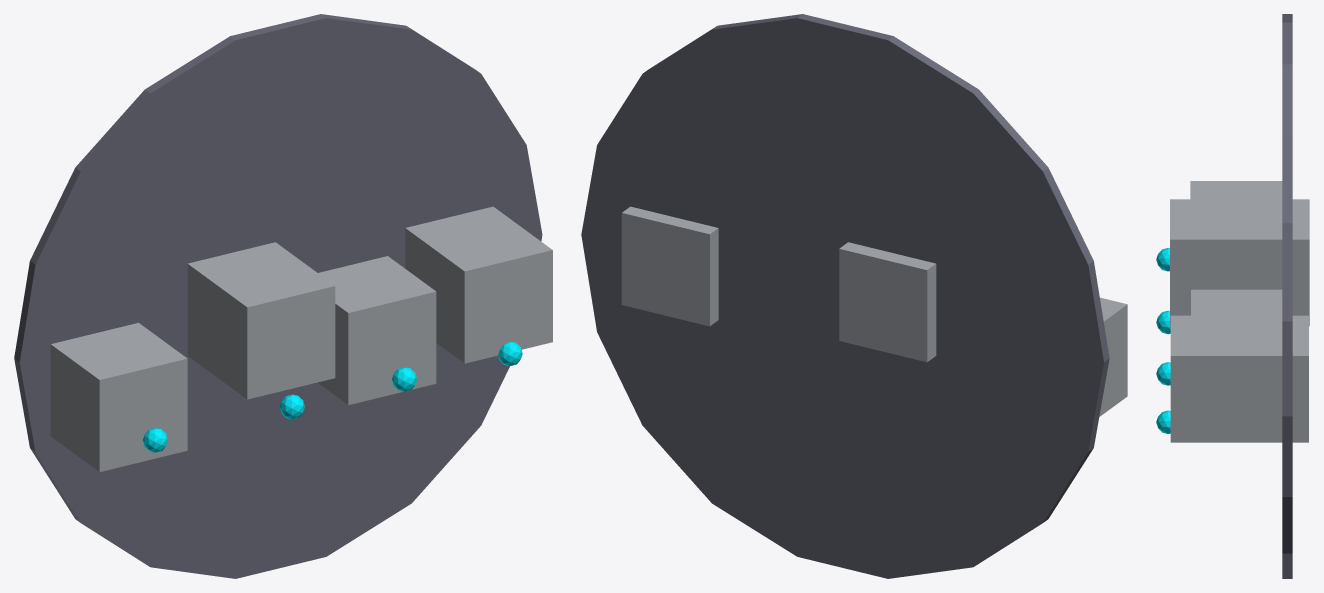
Rendered from 02_display_prop_cluster.glb.
3 views of the same model, side by side, from view 1: azimuth 30°, elevation 25°; view 2: azimuth 150°, elevation 25°; view 3: azimuth 270°, elevation 25° (orthographic). The views are drawn at different scales.
Visible parts, largest first — view 1: scatter_base, tech_crate_1, tech_crate_3, tech_crate_0, tech_crate_2; view 2: scatter_base, tech_crate_1, tech_crate_3, tech_crate_0; view 3: tech_crate_3, tech_crate_1, scatter_base, tech_crate_2, tech_crate_0, status_light_2, status_light_3, status_light_1, status_light_0.
Part boxes in pixels (box(x1,y1,x2,y2)): scatter_base: box(14, 14, 542, 578); tech_crate_1: box(187, 242, 335, 399); tech_crate_3: box(405, 206, 552, 363); tech_crate_0: box(50, 322, 187, 471); tech_crate_2: box(318, 256, 436, 404); scatter_base: box(581, 14, 1109, 578); tech_crate_1: box(839, 242, 936, 362); tech_crate_3: box(621, 206, 718, 326); tech_crate_0: box(1099, 297, 1127, 416); tech_crate_3: box(1170, 315, 1308, 442); tech_crate_1: box(1170, 199, 1309, 326); scatter_base: box(1282, 14, 1292, 578); tech_crate_2: box(1191, 289, 1282, 315); tech_crate_0: box(1190, 181, 1282, 199); status_light_2: box(1156, 362, 1170, 385); status_light_3: box(1156, 410, 1170, 433); status_light_1: box(1156, 310, 1170, 334); status_light_0: box(1156, 248, 1169, 271).
Bounding box in the file's own units: 1.9 × 1.87 × 0.5144.
